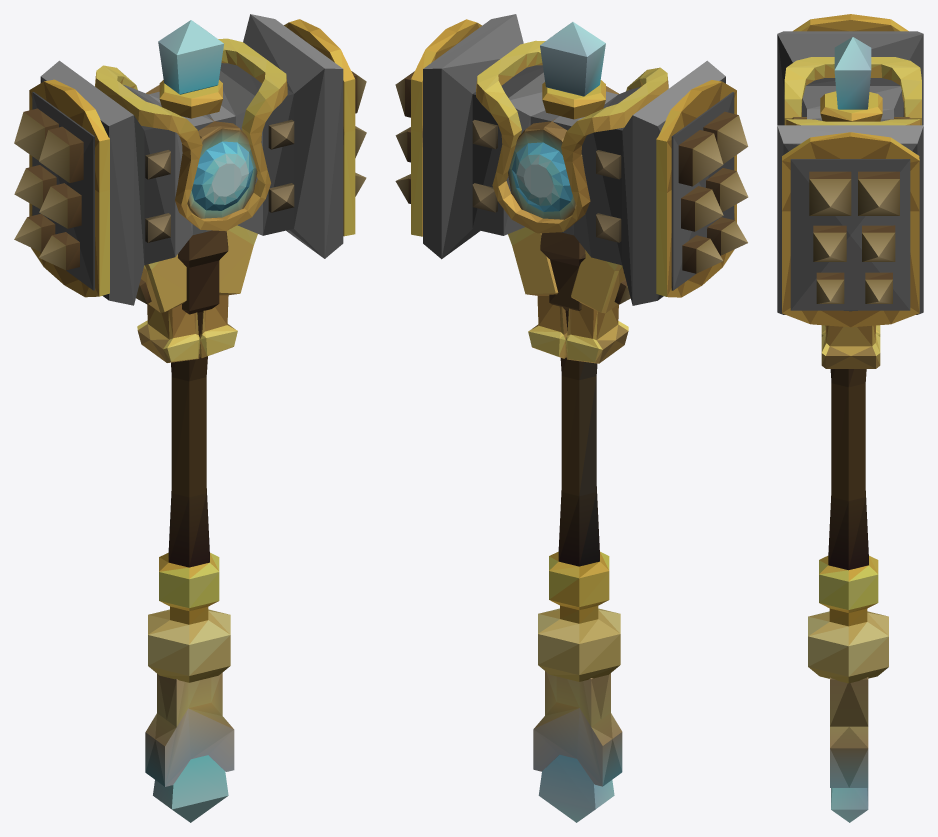
File: weapon_hammer_gold_5.fbx
The picture shows the model from 3 angles, left to right: view 1: azimuth 30°, elevation 25°; view 2: azimuth 150°, elevation 25°; view 3: azimuth 270°, elevation 25°; orthographic projection.
Visible parts, largest first — view 1: weapon_hammer_gold_5; view 2: weapon_hammer_gold_5; view 3: weapon_hammer_gold_5.
Boxes of the visible parts, x1,y1,x2,y2 form: weapon_hammer_gold_5: (14,14,366,822); weapon_hammer_gold_5: (395,14,748,822); weapon_hammer_gold_5: (777,14,923,822).
Bounding box in the file's own units: 1.36 × 3.19 × 0.5371.
